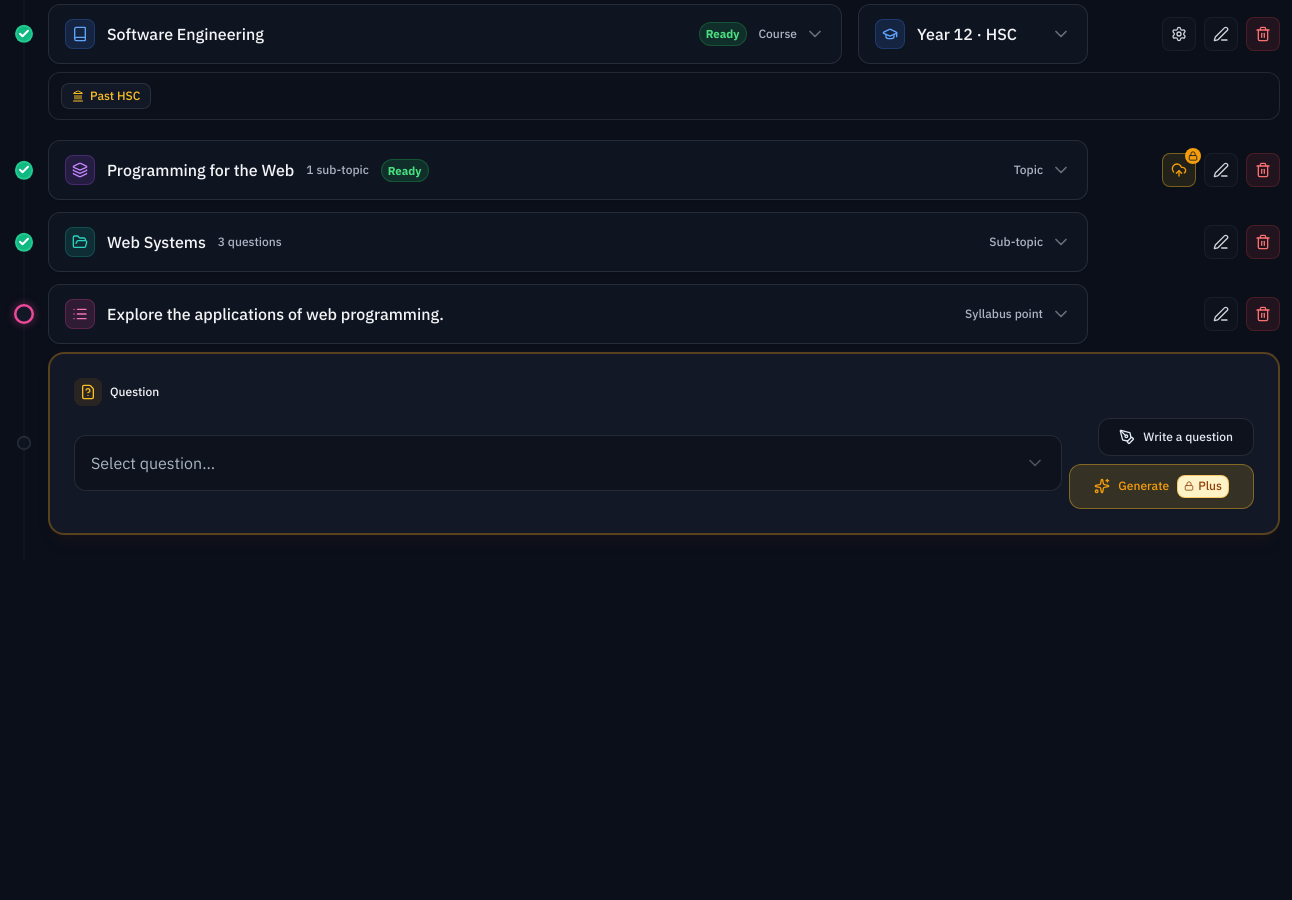
past HSC chip in the question picker › names the paper and question number a question came from
Click the button "Select question…" at (153, 463), box [74, 435, 1062, 491]
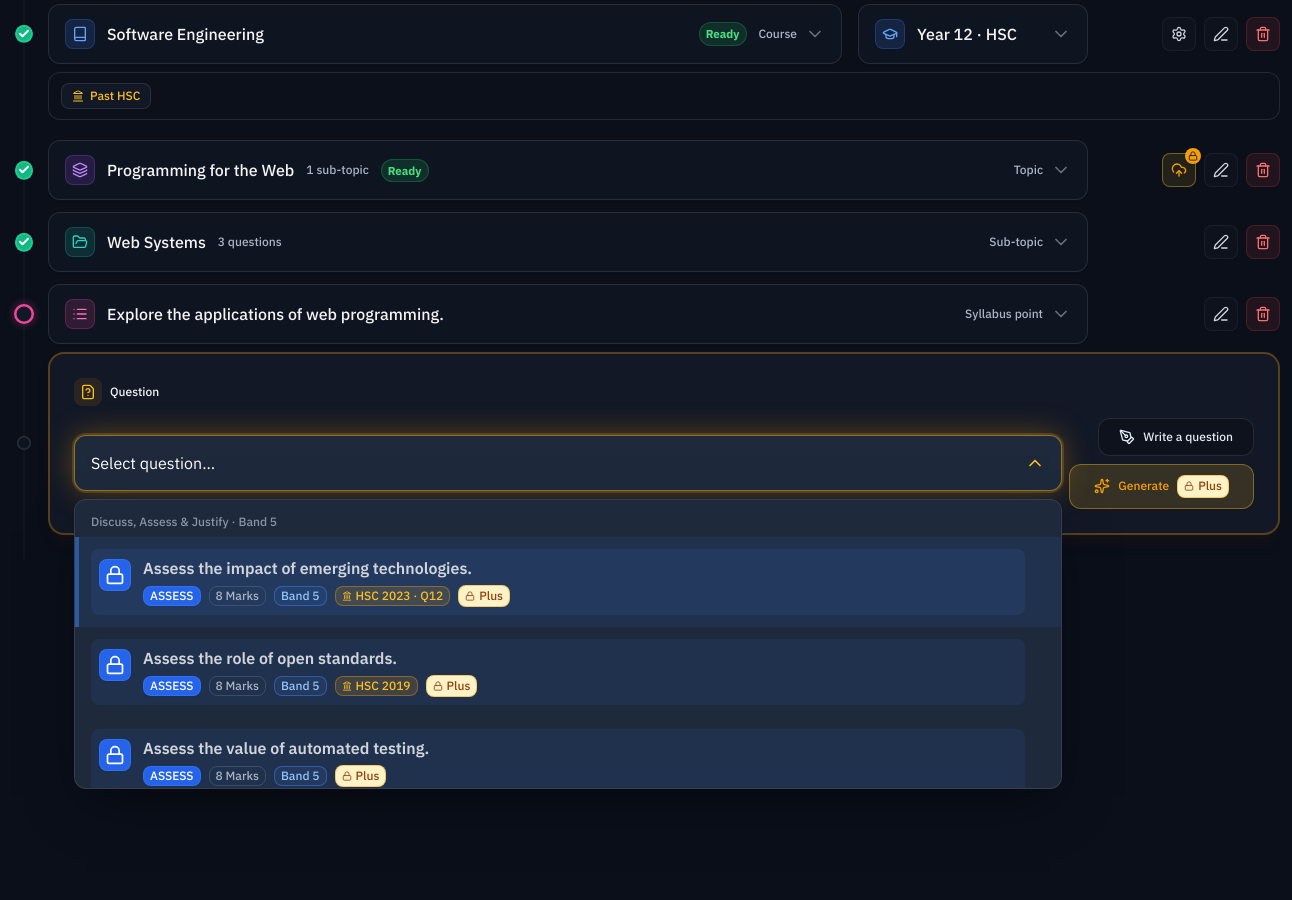
Result: the text "HSC 2023 · Q12" is shown at [356, 588, 443, 604]
